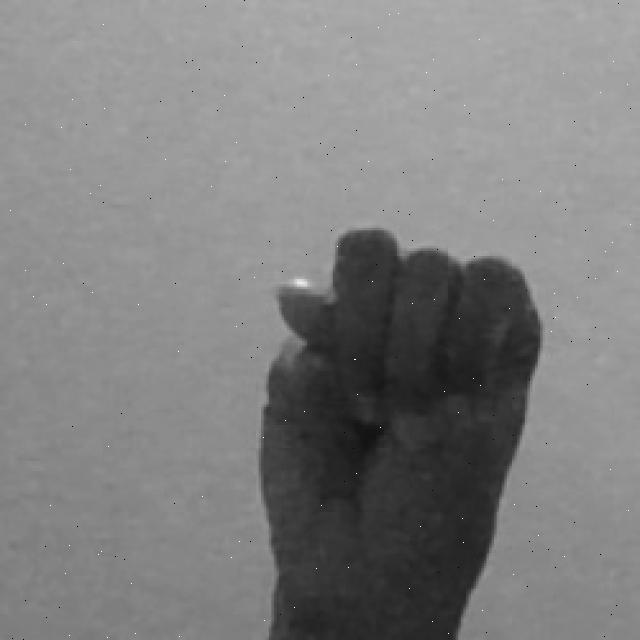M: (253, 217, 547, 640)
